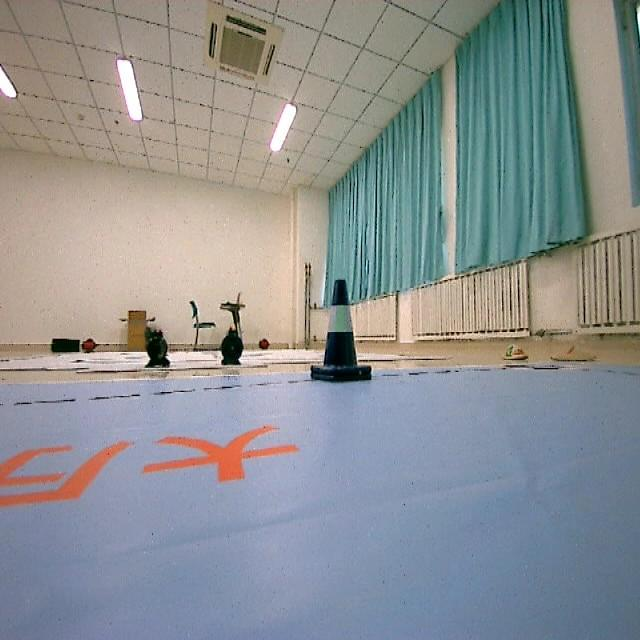obstacle: (302, 275, 376, 387)
